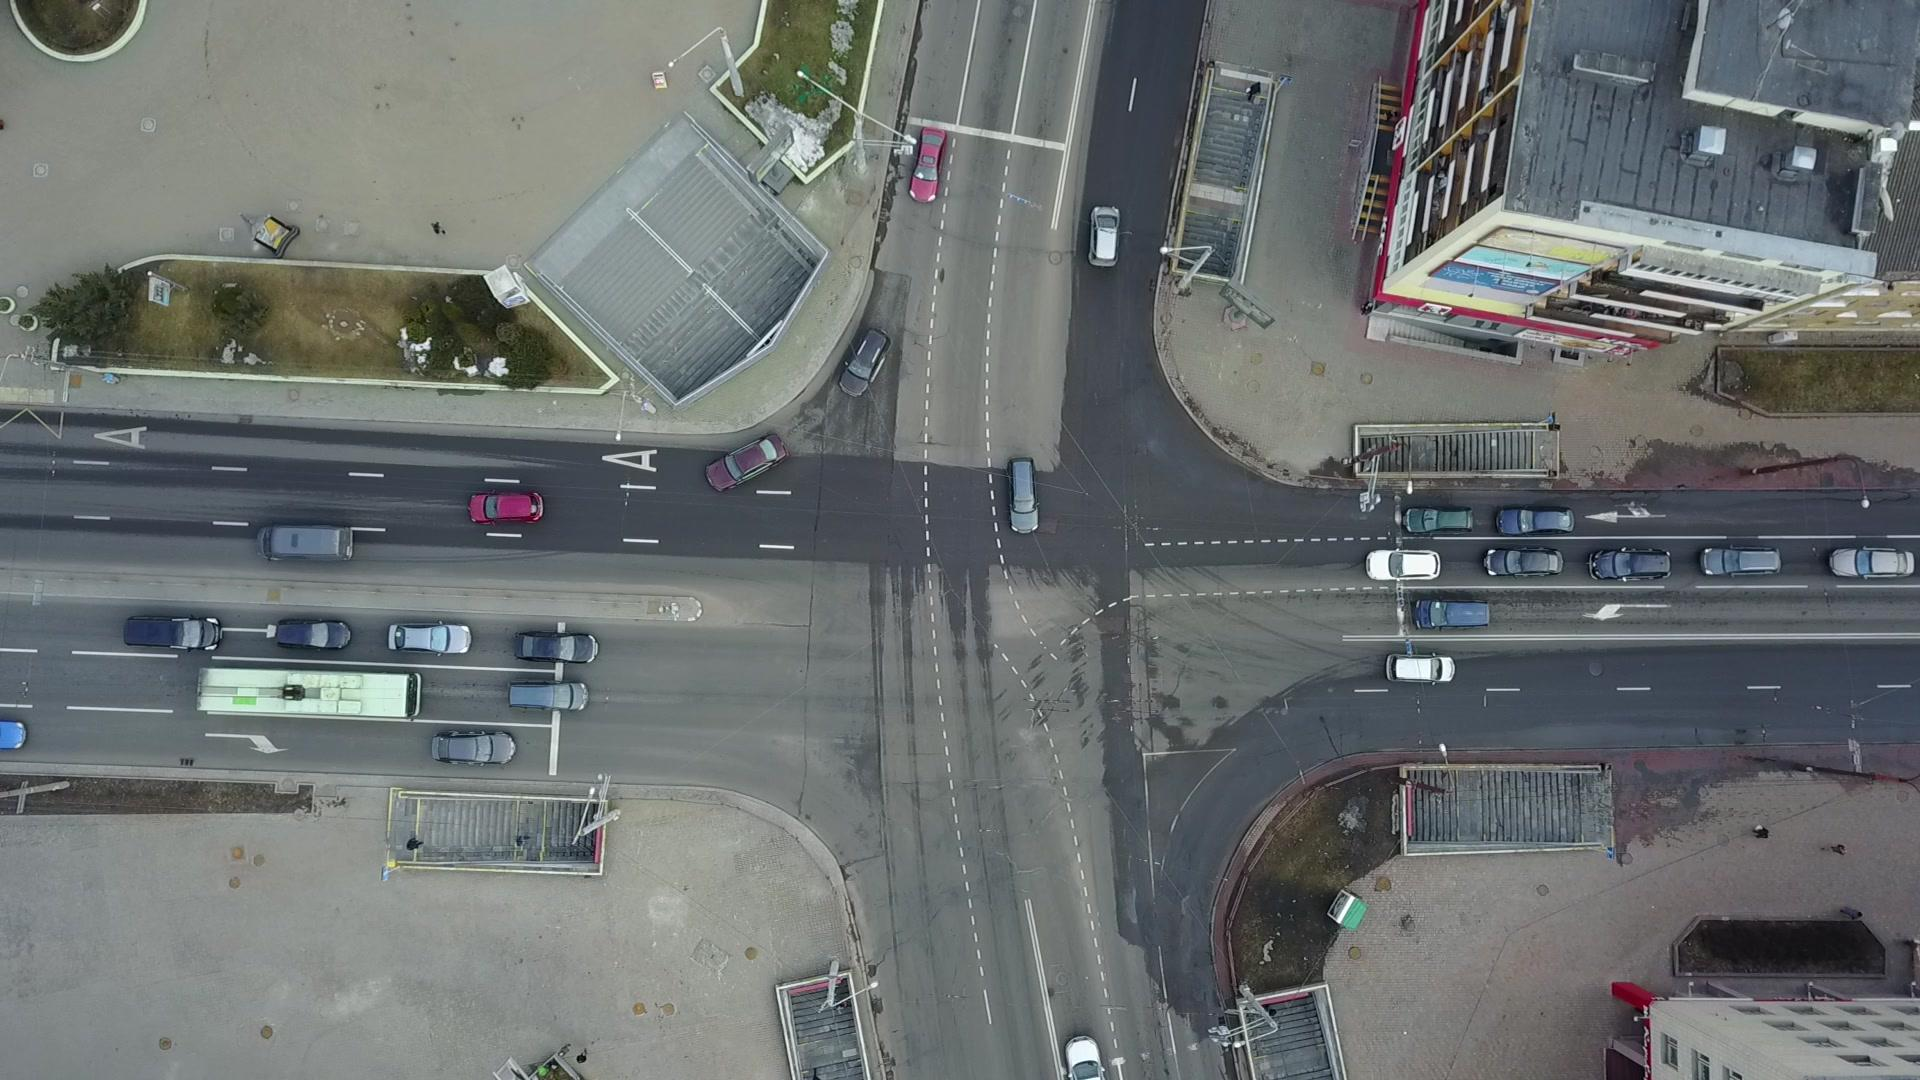car: (703, 431, 789, 491), (834, 327, 897, 401), (253, 521, 356, 563), (122, 612, 224, 654), (1000, 456, 1045, 536), (429, 728, 519, 768), (1586, 544, 1674, 584), (385, 618, 474, 657), (1363, 545, 1444, 586), (1828, 544, 1917, 581), (907, 125, 947, 205), (514, 629, 601, 665), (468, 487, 546, 526), (1699, 542, 1783, 578), (507, 677, 591, 712), (1407, 595, 1492, 629), (275, 616, 353, 653), (1398, 503, 1477, 538), (1085, 200, 1124, 270), (1480, 546, 1565, 578), (1383, 651, 1457, 686)
